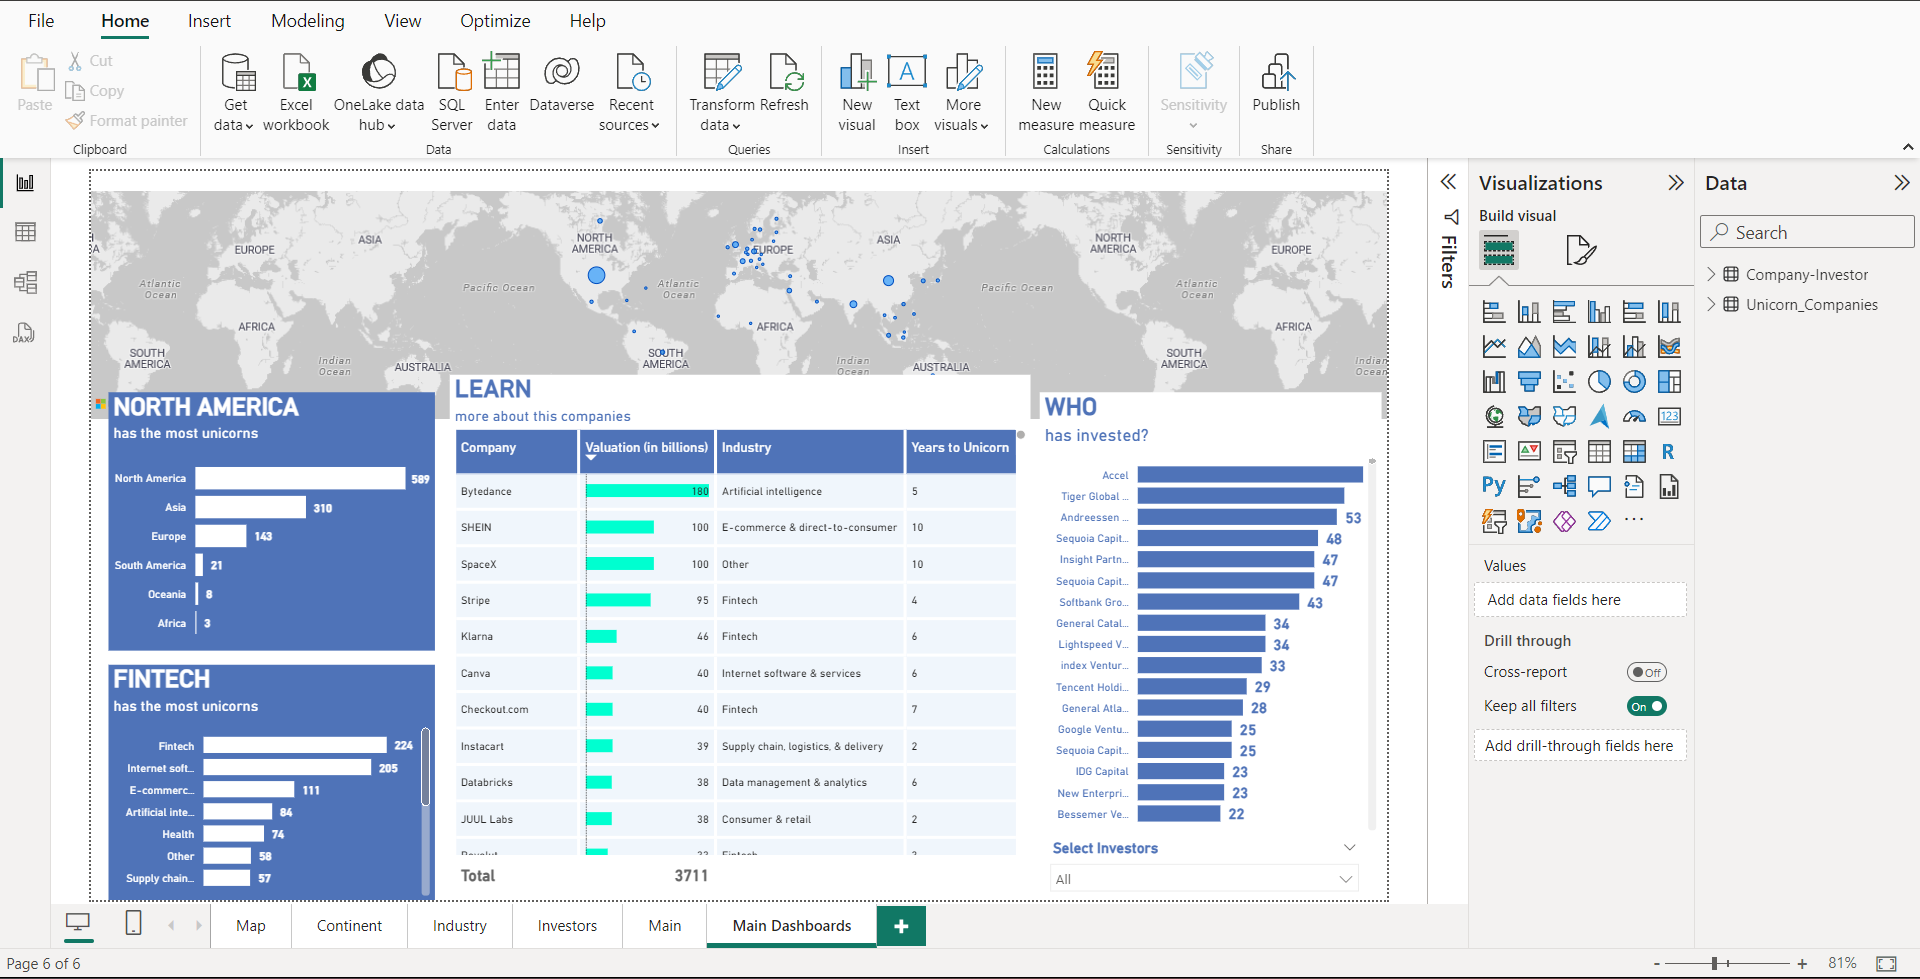

This screenshot's page, from the dashboard's own definition file:
{"tool":"powerbi","page":{"name":"Main Dashboards","canvas":[1280,720],"ordinal":5},"visuals":[{"type":"map","title":"1074 UNICORN COMPANIES","fields":{"Category":["Unicorn_Companies.Country"],"Size":["CountNonNull(Unicorn_Companies.Company)"]},"box":[0,19.2,1280.3,225],"z":0},{"type":"clusteredBarChart","title":"NORTH AMERICA","fields":{"Category":["Unicorn_Companies.Continent"],"Y":["CountNonNull(Unicorn_Companies.Company)"]},"box":[17.8,218.2,322.5,255.2],"z":1000},{"type":"clusteredBarChart","title":"FINTECH","fields":{"Category":["Unicorn_Companies.Industry"],"Y":["CountNonNull(Unicorn_Companies.Company)"]},"box":[17.8,487.1,322.5,233.3],"z":2000},{"type":"barChart","title":"WHO","fields":{"Category":["Company-Investor.Select Investors"],"Y":["CountNonNull(Company-Investor.Company)"]},"box":[937.2,218.2,337.6,437.7],"z":3000},{"type":"tableEx","title":"LEARN","fields":{"Values":["Unicorn_Companies.Company","Sum(Unicorn_Companies.Valuation_Numeric)","Unicorn_Companies.Industry","Unicorn_Companies.Years to Unicorn"]},"box":[354,201.7,573.6,518.7],"z":4000},{"type":"slicer","fields":{"Values":["Company-Investor.Select Investors","Company-Investor.Company"]},"box":[937.2,655.9,325.2,64.5],"z":5000}]}

Visuals, with their boxes on the page's 1280x720 design canvas (x1, y1, x2, y2). These are canvas units, not pixel positions in the 1920x979 screenshot, which may show the page scaled, cropped or inside an application window:
"1074 UNICORN COMPANIES" map: bbox(0, 19, 1280, 244)
"NORTH AMERICA" clusteredBarChart: bbox(18, 218, 340, 473)
"FINTECH" clusteredBarChart: bbox(18, 487, 340, 720)
"WHO" barChart: bbox(937, 218, 1275, 656)
"LEARN" tableEx: bbox(354, 202, 928, 720)
slicer - Company-Investor.Select Investors x Company-Investor.Company: bbox(937, 656, 1262, 720)
